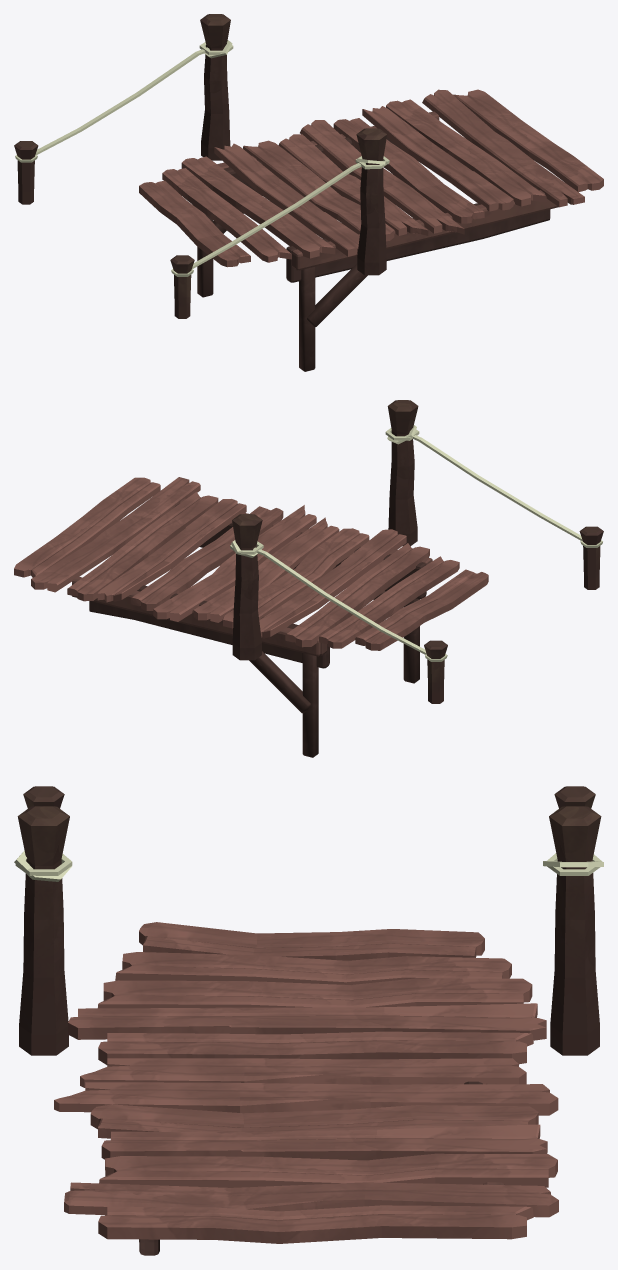
File: bridgeBrokenPiece1.fbx
The picture shows the model from 3 angles, top to bottom: view 1: azimuth 30°, elevation 25°; view 2: azimuth 150°, elevation 25°; view 3: azimuth 270°, elevation 25°; orthographic projection. The views are drawn at different scales.
Visible parts, largest first — view 1: bridge2.001; view 2: bridge2.001; view 3: bridge2.001.
Boxes of the visible parts, bbox=[...] form: bridge2.001: bbox=[14, 14, 603, 371]; bridge2.001: bbox=[14, 400, 603, 757]; bridge2.001: bbox=[14, 786, 603, 1255].
Bounding box in the file's own units: 1891 × 997 × 1261.
